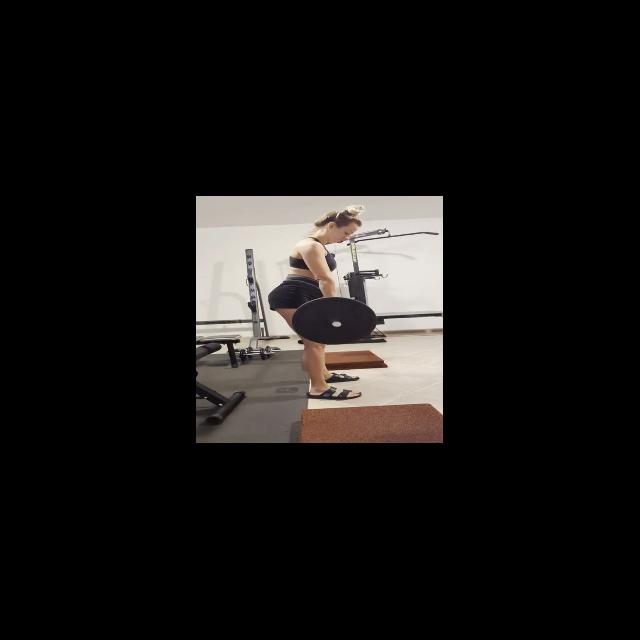barbell: (290, 296, 378, 347)
